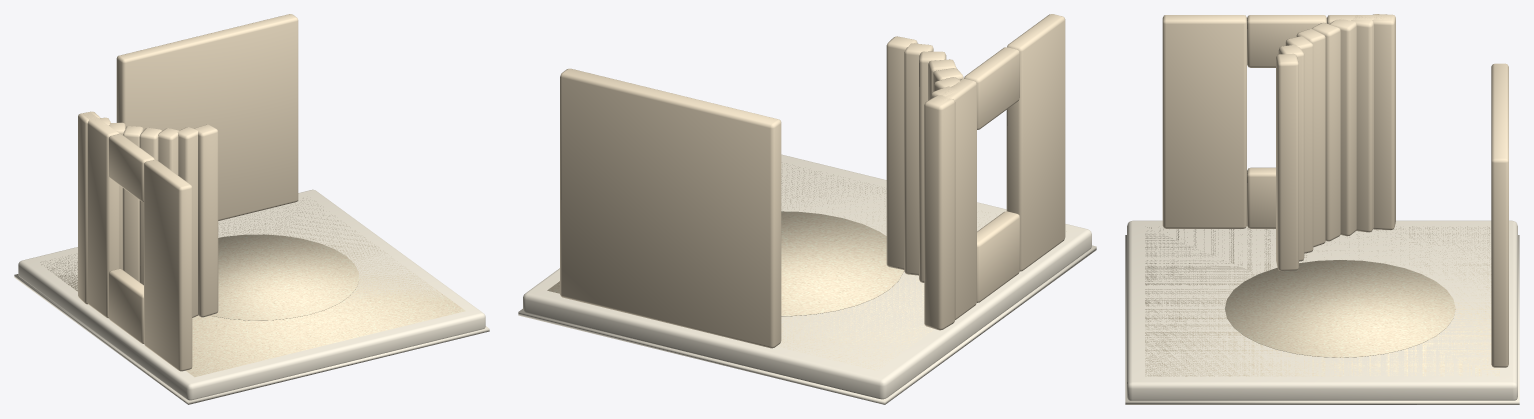
File: shell_pastel.glb
3 renders of one model, left to right at view 1: azimuth 30°, elevation 25°; view 2: azimuth 150°, elevation 25°; view 3: azimuth 270°, elevation 25°, orthographic. The views are drawn at different scales.
Parts seen in each view (by area): view 1: pastel_wall_back, pastel_floor, pastel_base_edge; view 2: pastel_wall_back, pastel_base_edge, pastel_floor; view 3: pastel_wall_back, pastel_base_edge, pastel_floor.
Boxes of the visible parts, x1,y1,x2,y2 form: pastel_wall_back: [78, 14, 298, 371]; pastel_floor: [40, 198, 465, 377]; pastel_base_edge: [14, 189, 489, 404]; pastel_wall_back: [560, 14, 1065, 348]; pastel_base_edge: [518, 154, 1096, 404]; pastel_floor: [547, 163, 1066, 370]; pastel_wall_back: [1162, 14, 1508, 367]; pastel_base_edge: [1125, 220, 1519, 404]; pastel_floor: [1145, 226, 1499, 376].
Size of the model in its own units: 4.44 by 2.85 by 4.44.
Materials: 3 (2 with a texture image).
